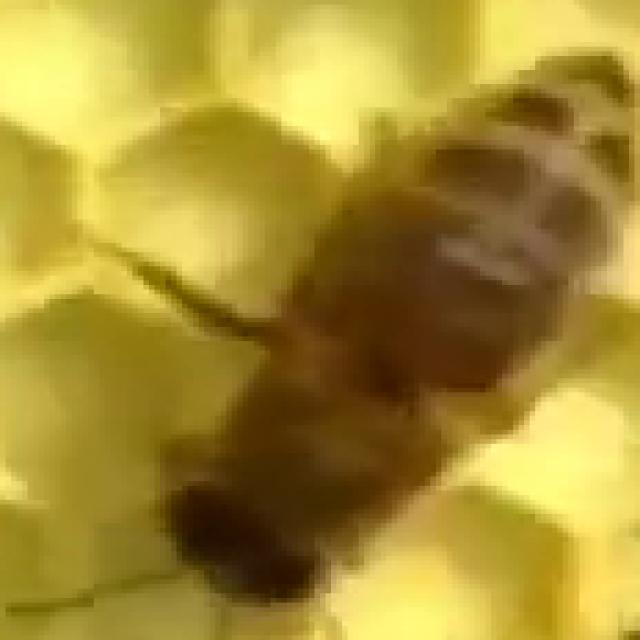honeybee: (144, 37, 640, 606)
